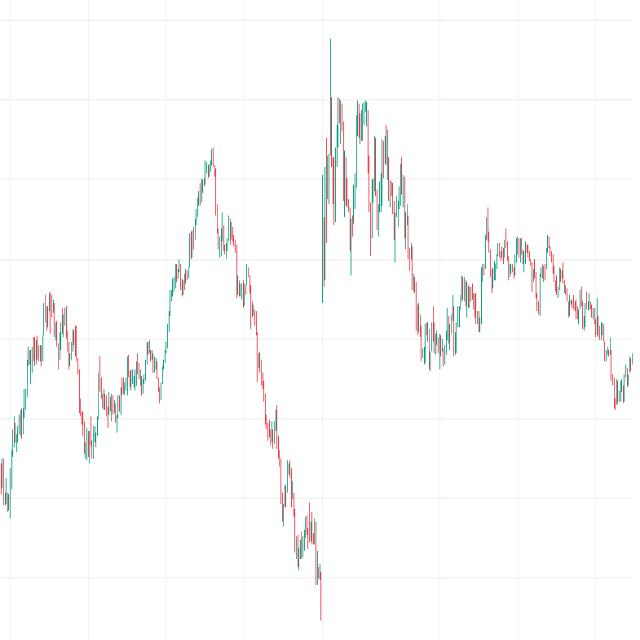Ascending-Triangle: (73, 337, 191, 509)
Cup-and-handle: (404, 261, 490, 378)
Head-Shoulders: (158, 142, 272, 407)
Triangle: (315, 52, 441, 328)
